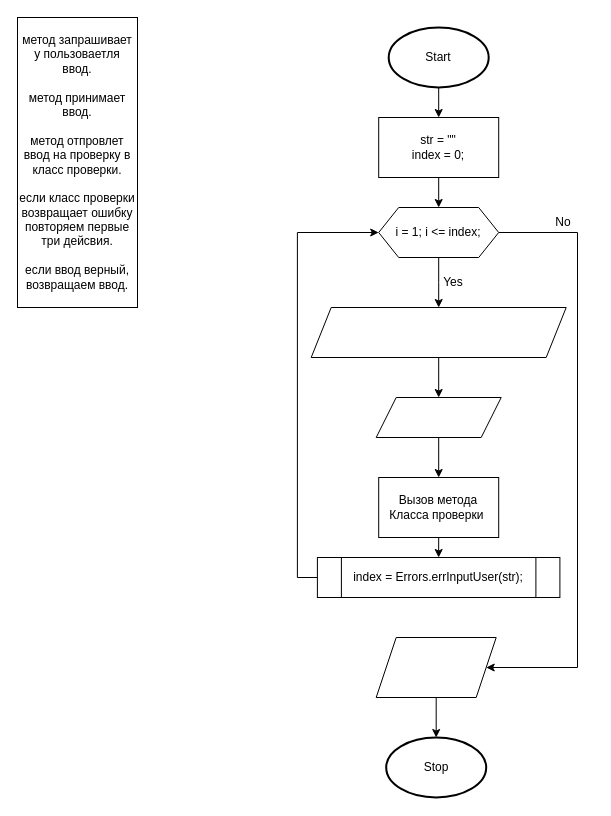
This 611x816 diagram has some shape labels left out. The centre of each missing label's shape, as x and y in pixels:
return str;: (x=435, y=667)
Ввод: str =: (x=438, y=417)
Вывод: "Введите любое предложение" "Осуствие ввода будет ошибкой": (x=438, y=332)
